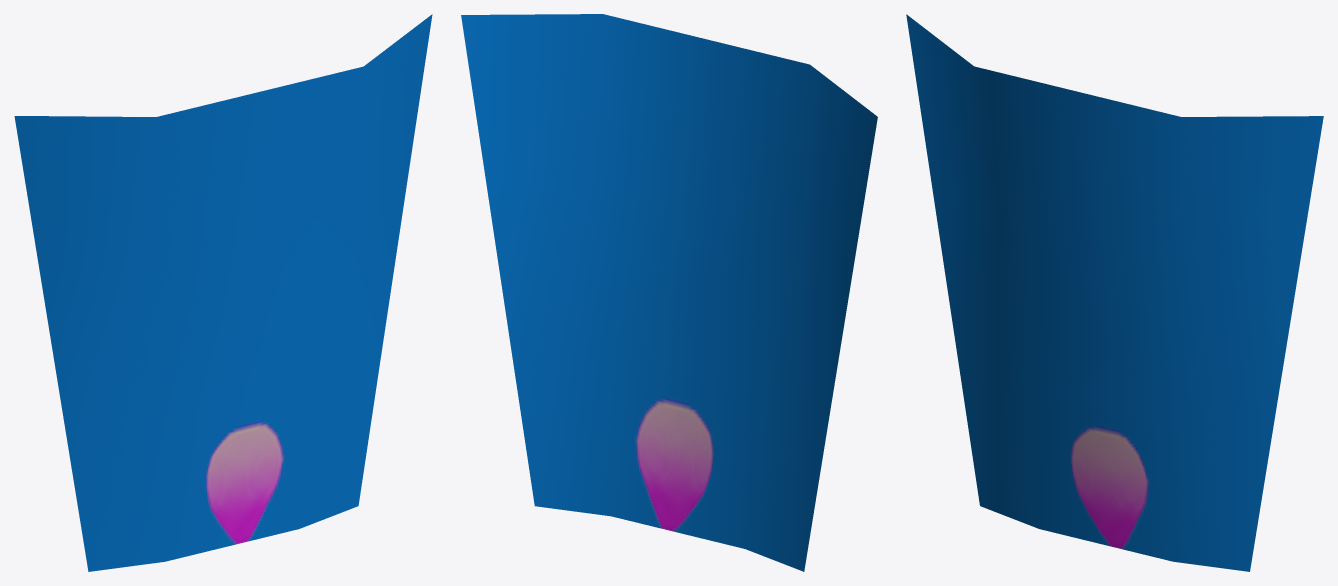
File: p_mesh_claygun_splashplane01.fbx
The picture shows the model from 3 angles, left to right: view 1: azimuth 30°, elevation 25°; view 2: azimuth 150°, elevation 25°; view 3: azimuth 330°, elevation 25°; orthographic projection.
Parts seen in each view (by area): view 1: Fluid2.001; view 2: Fluid2.001; view 3: Fluid2.001.
Part boxes in pixels (x1,y1,x2,y2): Fluid2.001: [14, 14, 432, 571]; Fluid2.001: [461, 14, 877, 571]; Fluid2.001: [906, 14, 1323, 571].
Bounding box in the file's own units: 0.923 × 1 × 0.1406.
